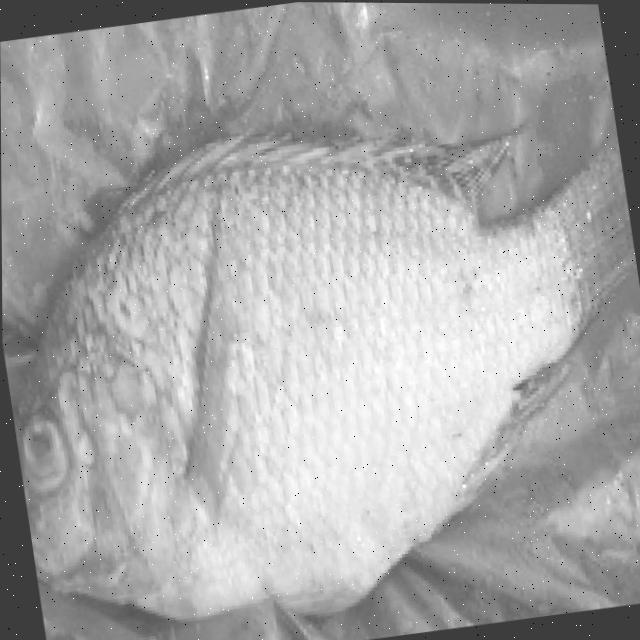Non-Fresh: (113, 219, 530, 537), (12, 394, 133, 517)
